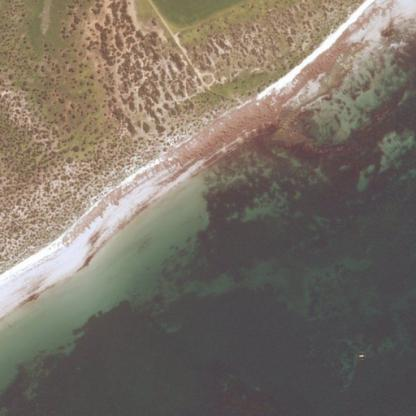ship: (358, 352, 363, 356)
